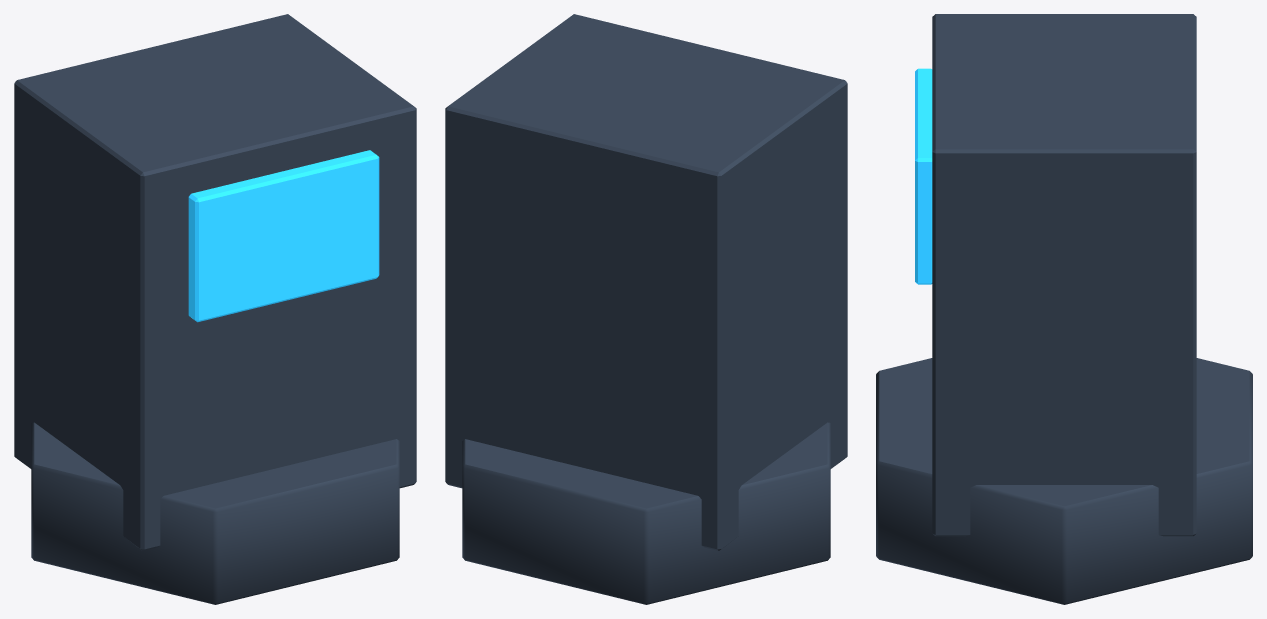
Rendered from tech_console_small_01.glb.
3 renders of one model, left to right at view 1: azimuth 30°, elevation 25°; view 2: azimuth 150°, elevation 25°; view 3: azimuth 270°, elevation 25°, orthographic. The views are drawn at different scales.
Visible parts, largest first — view 1: tech_console_small_01; view 2: tech_console_small_01; view 3: tech_console_small_01.
Boxes of the visible parts, x1,y1,x2,y2 form: tech_console_small_01: (14, 14, 416, 604); tech_console_small_01: (445, 14, 847, 604); tech_console_small_01: (876, 14, 1252, 604).
Size of the model in its own units: 0.556 by 0.615 by 0.485.
